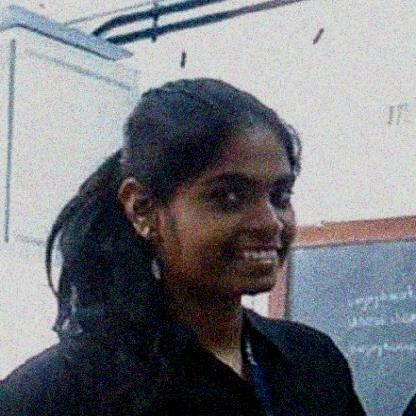without_mask: (181, 142, 300, 308)
